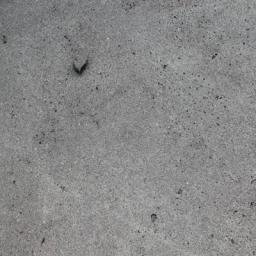FOD: (71, 53, 93, 77)
